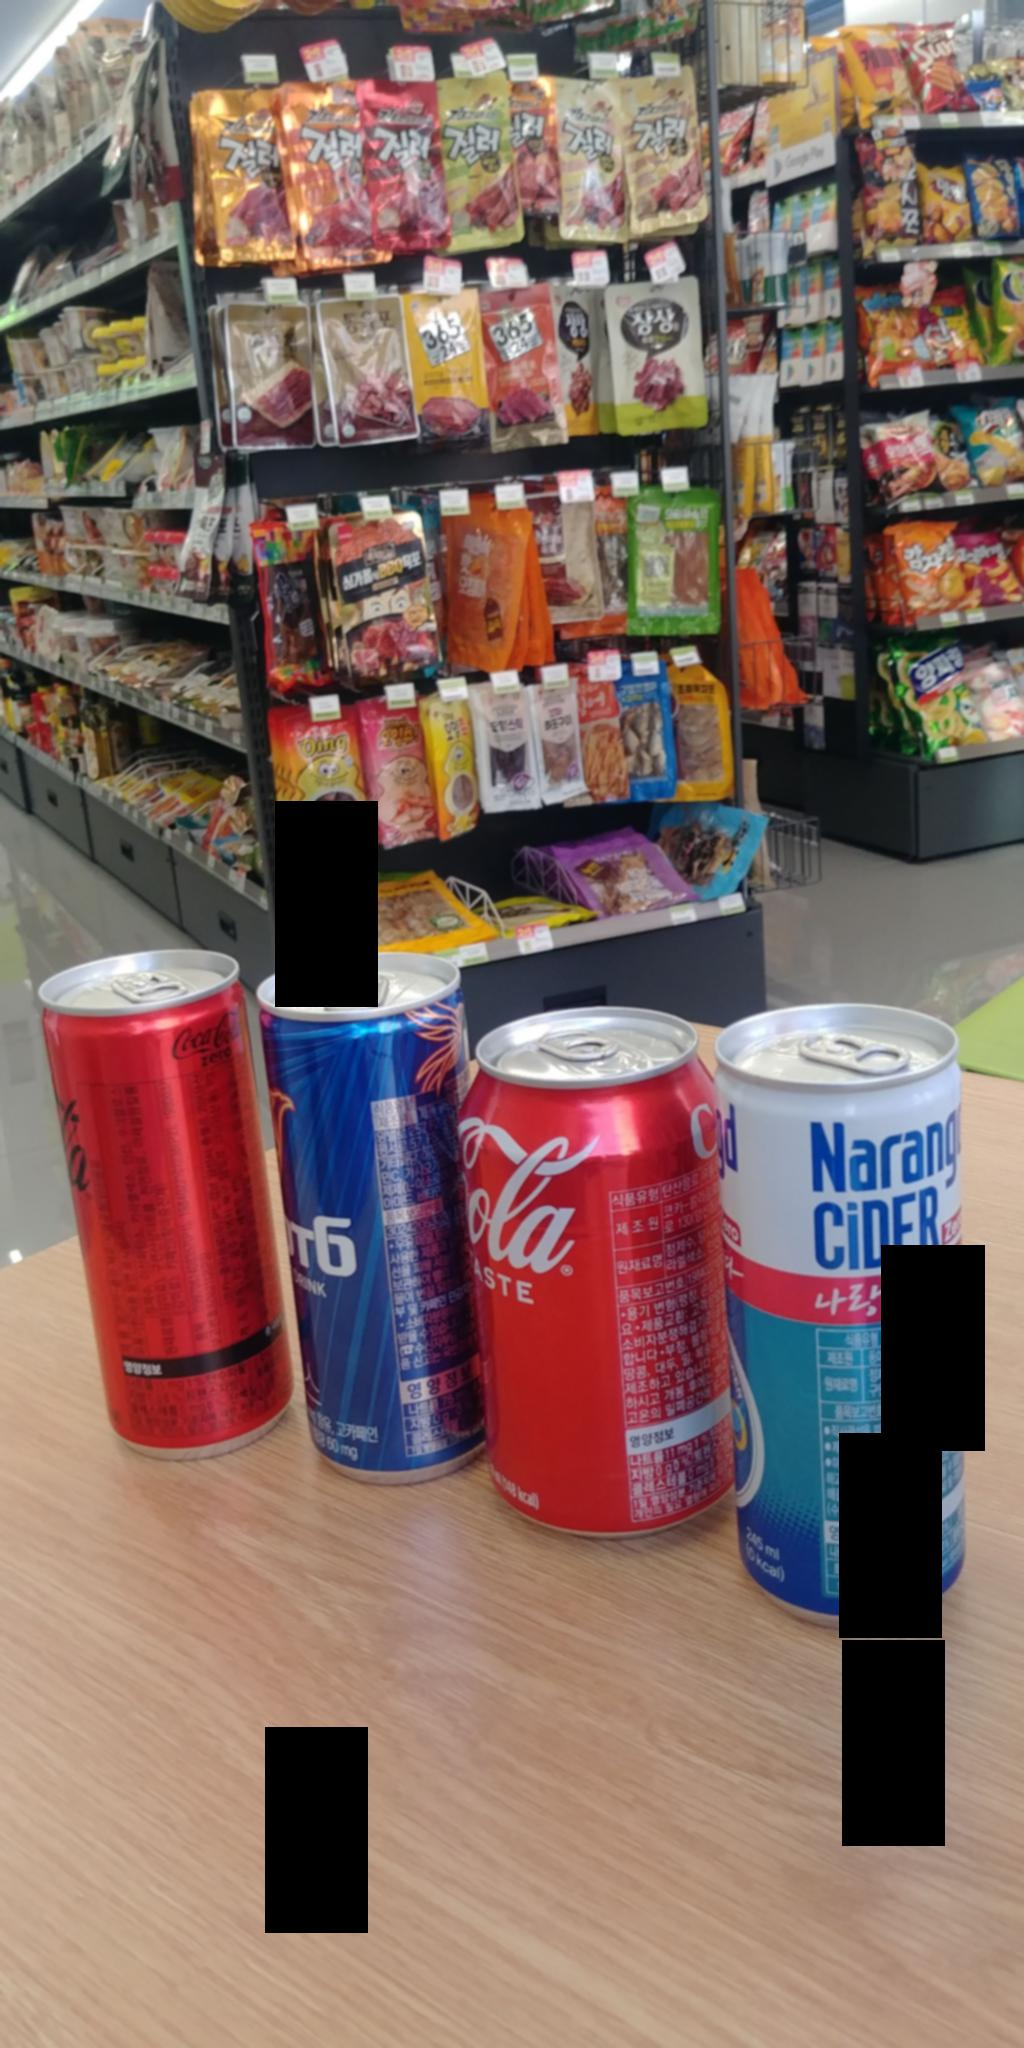cocacola: (503, 980, 722, 1535)
hotsix_org: (248, 955, 486, 1467)
narangdcider: (730, 950, 981, 1650)
